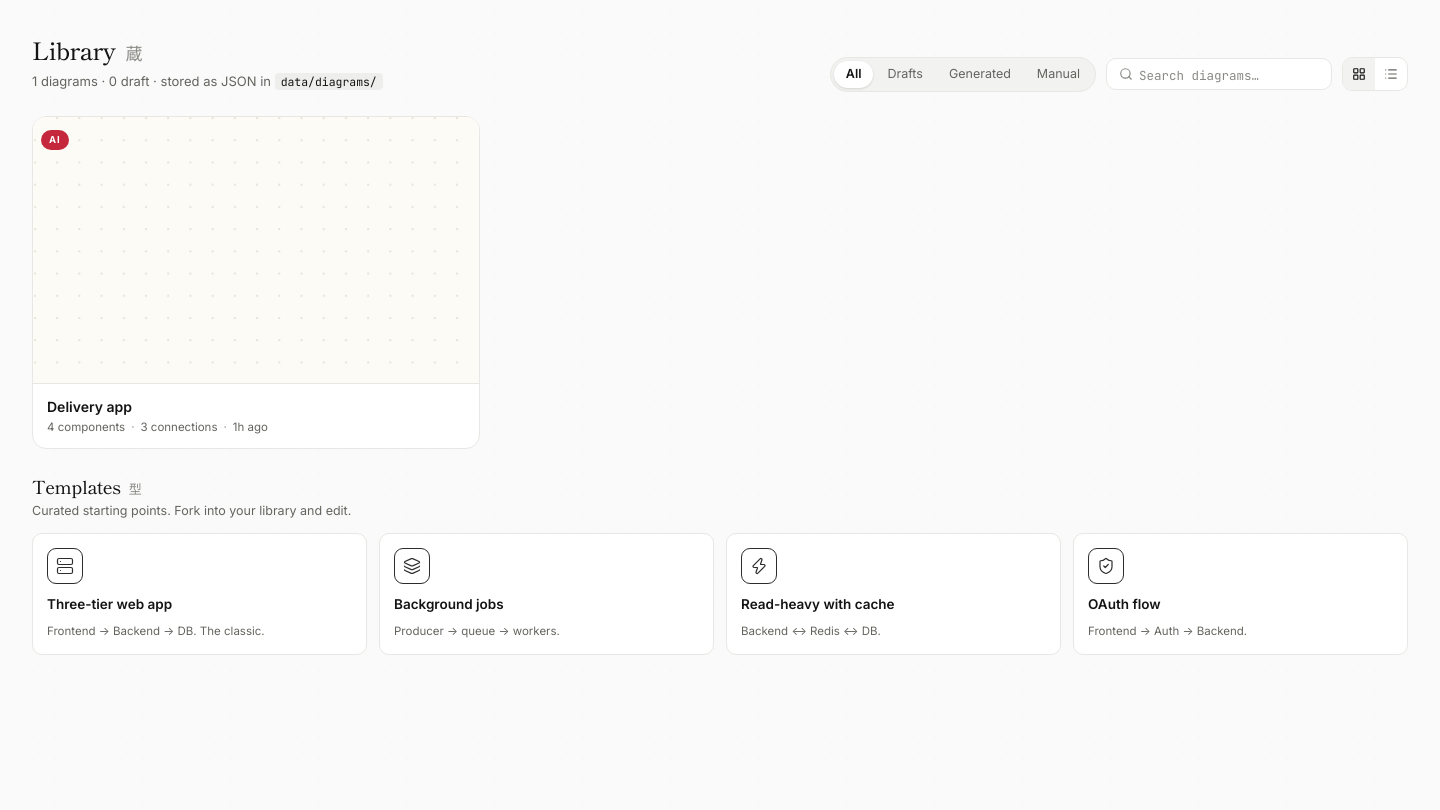
Scenario: LibraryPage › shows a filter-miss message when diagrams exist but none match
Type "zzzz" into the search field with placeholder "Search diagrams…" at (1229, 74), box [1139,60,1319,88]
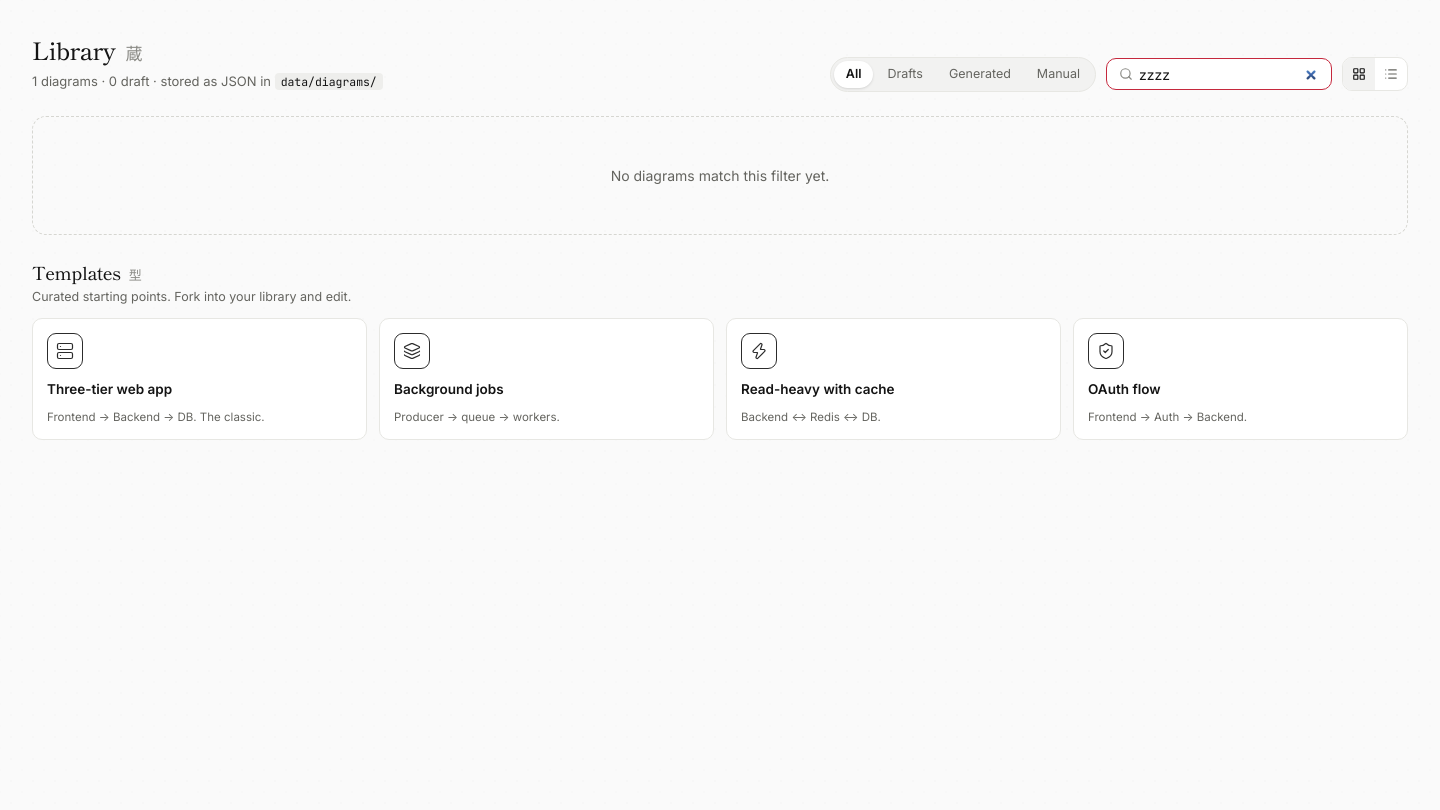
expect the text "No diagrams match this filter yet." is shown: met, box [611,166,829,184]
